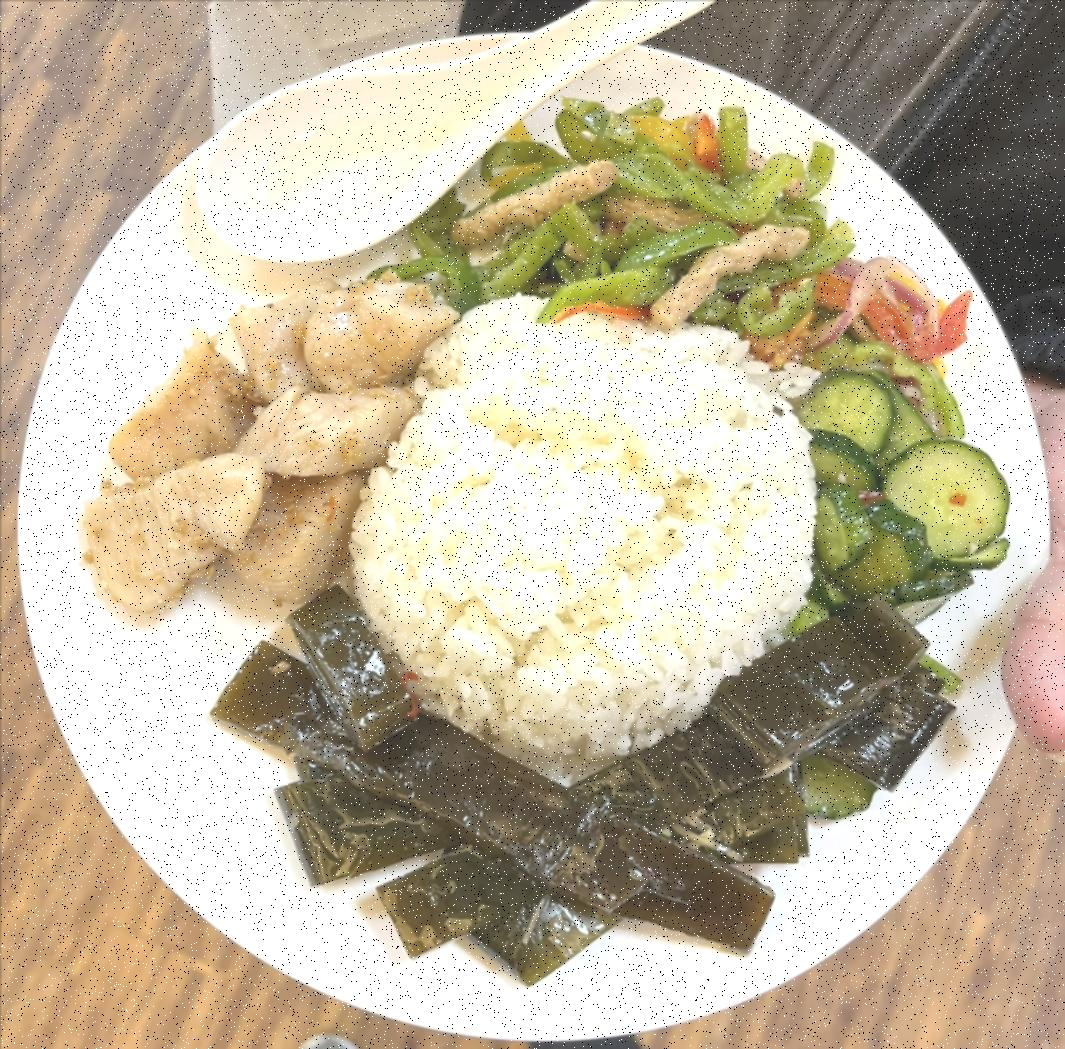plate: (13, 33, 1065, 1049)
scallion chicken: (79, 268, 456, 615)
side dish: (218, 618, 958, 979), (404, 98, 976, 356), (810, 360, 1010, 603)
white rice: (357, 303, 806, 773)
